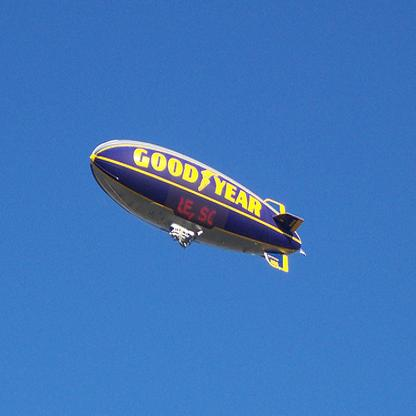Airship: (87, 137, 313, 280)
